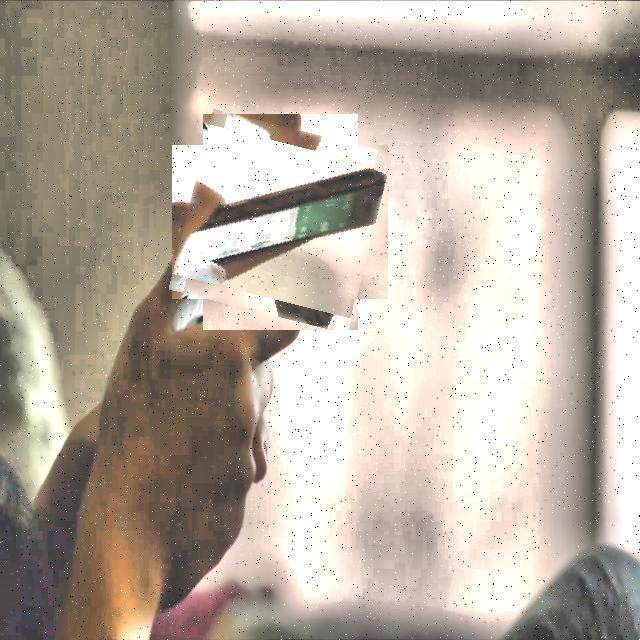Phone: (178, 120, 383, 324)
